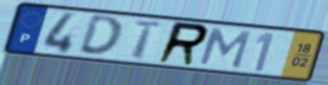1: (253, 31, 276, 73)
4: (41, 10, 75, 56)
D: (75, 15, 123, 59)
M: (197, 26, 254, 71)
R: (154, 20, 212, 68)
T: (131, 19, 165, 61)
